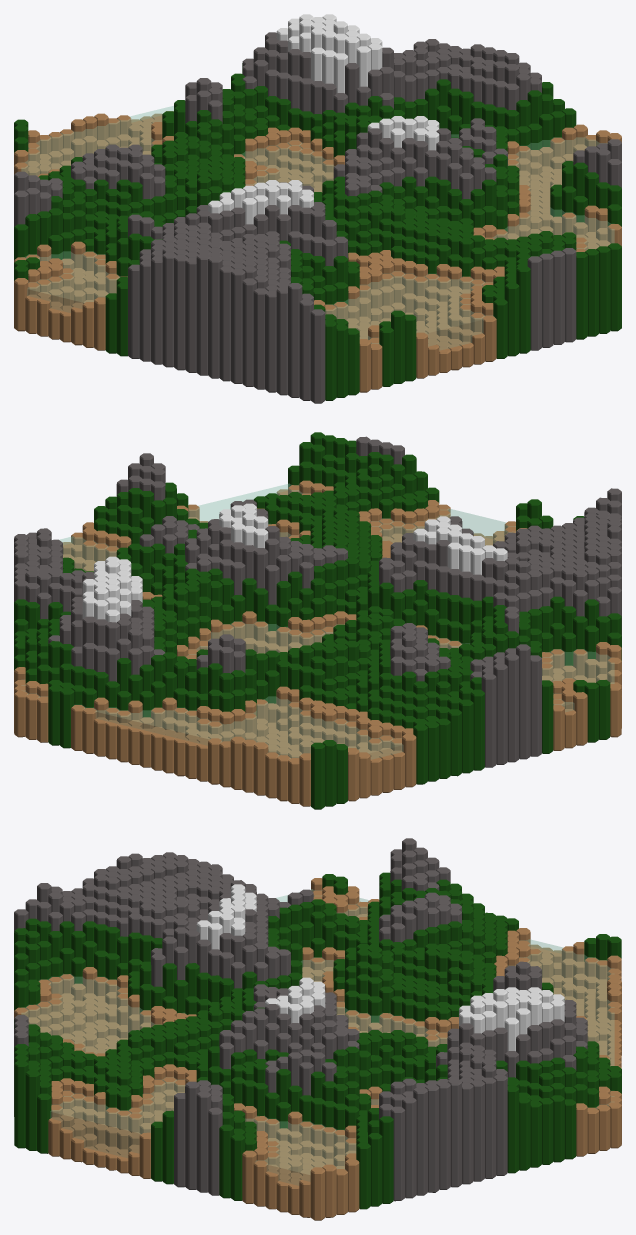
File: land_parcel.glb
3 views of the same model, one above another, from view 1: azimuth 30°, elevation 25°; view 2: azimuth 150°, elevation 25°; view 3: azimuth 270°, elevation 25° (orthographic).
Visible parts, largest first — view 1: Land.001, Water; view 2: Land.001, Water; view 3: Land.001, Water.
Boxes of the visible parts, x1,y1,x2,y2 form: Land.001: [14, 14, 621, 403]; Water: [21, 106, 614, 349]; Land.001: [14, 432, 621, 809]; Water: [22, 483, 614, 759]; Land.001: [14, 838, 621, 1220]; Water: [21, 889, 614, 1185].
Bounding box in the file's own units: 45.9 × 10 × 39.98.
